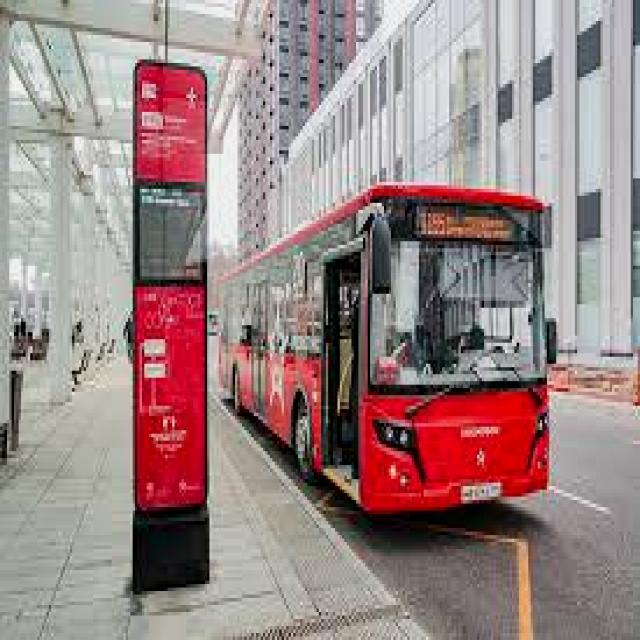bus: (218, 176, 558, 522)
